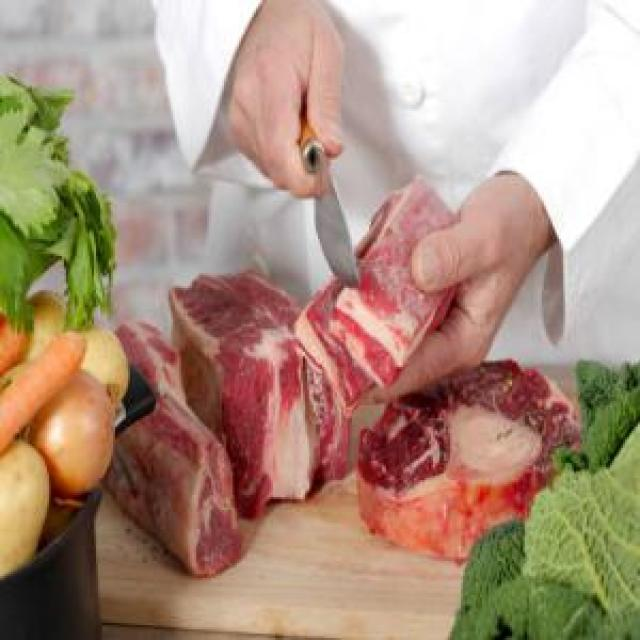knife: (296, 137, 366, 296)
